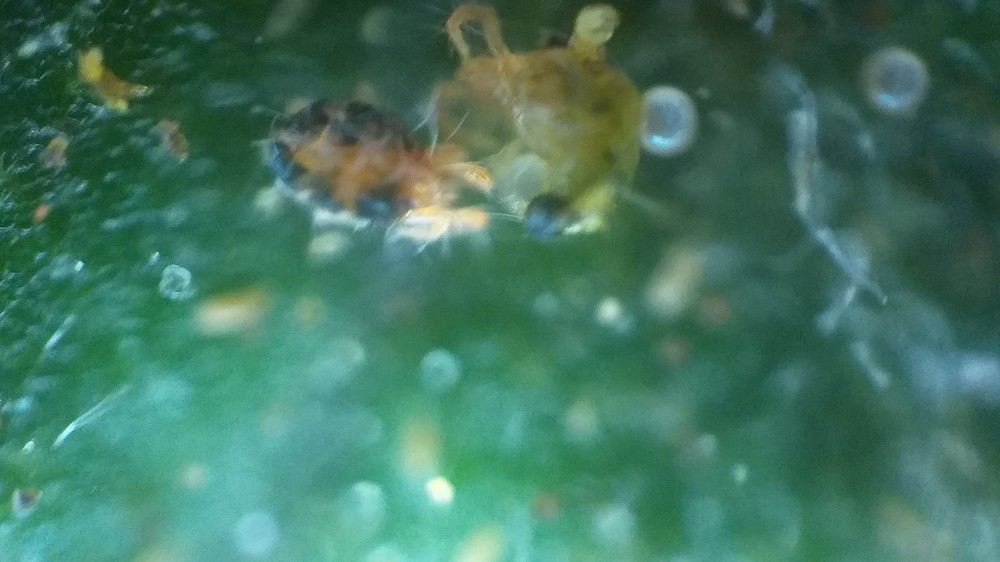Aracnido Rojo: (439, 2, 658, 239), (233, 80, 502, 259)
